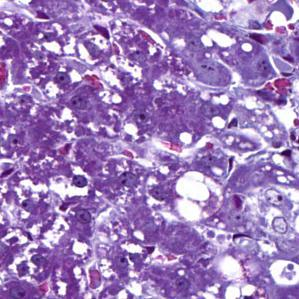ballooning: (174, 168, 228, 225)
